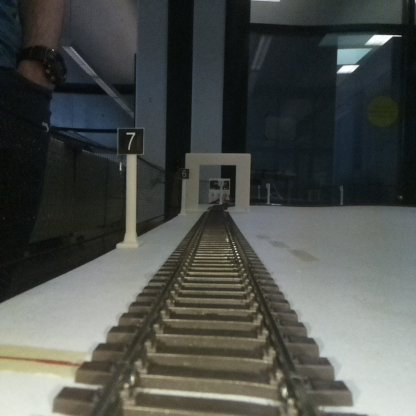black-info-6: (179, 168, 189, 213)
black-info-7: (117, 128, 143, 246)
